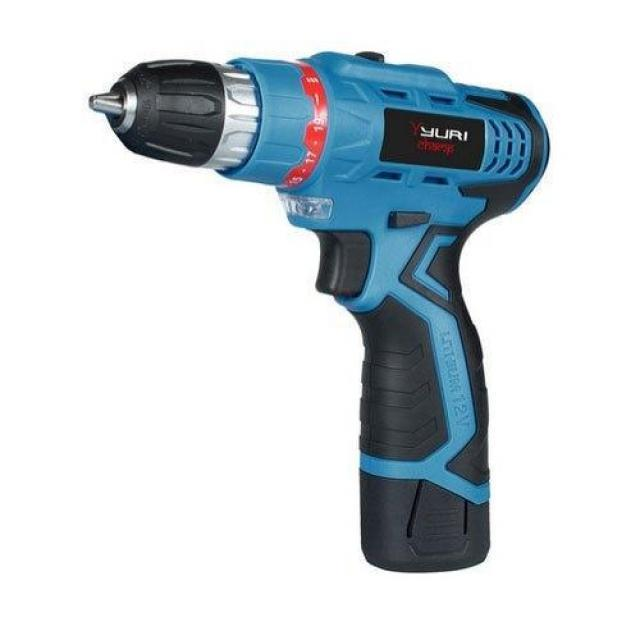drill: (87, 49, 552, 574)
